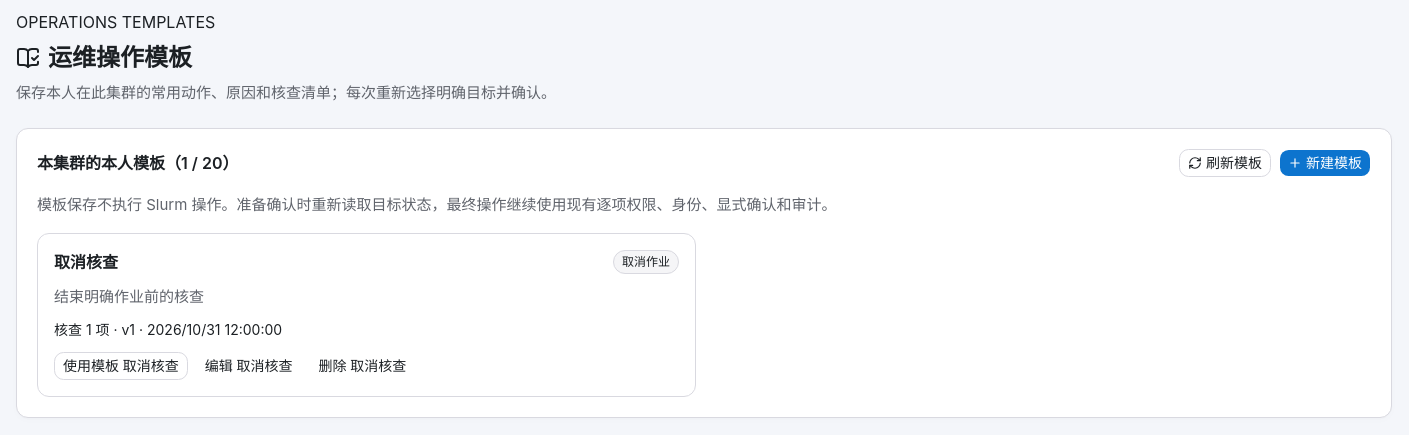
Scenario: hides cached templates on forbidden refresh
This screenshot has width=1409, height=435.
Expected: the heading "取消核查" is shown, [54,250,118,274]
Click the button "刷新模板".
click(1225, 163)  # box [1179,149,1271,177]
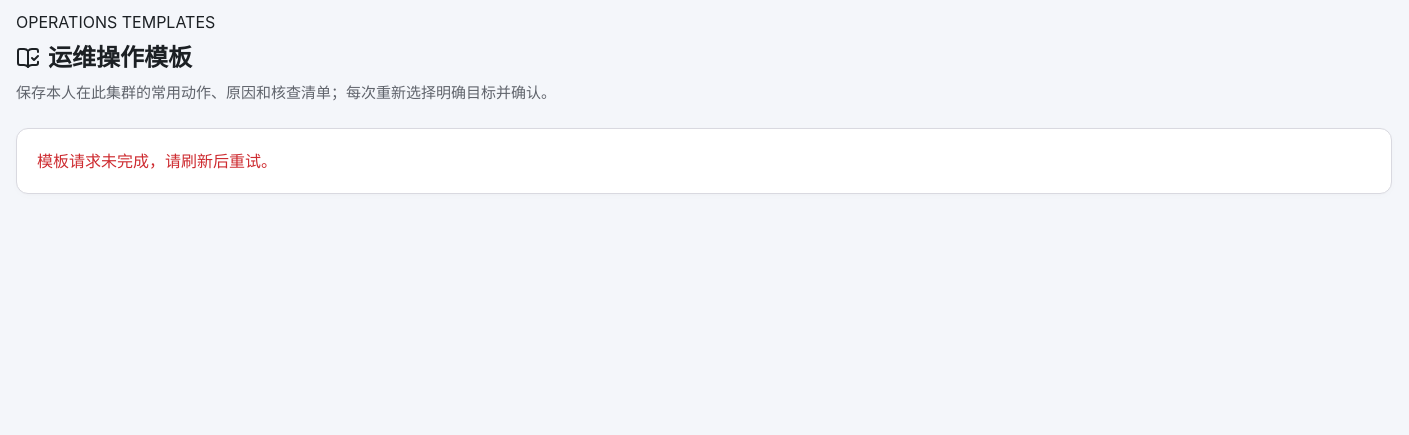
Expected: the message "模板请求未完成，请刷新后重试。" is shown, [16,128,1392,194]
Expected: the heading "取消核查" is gone
